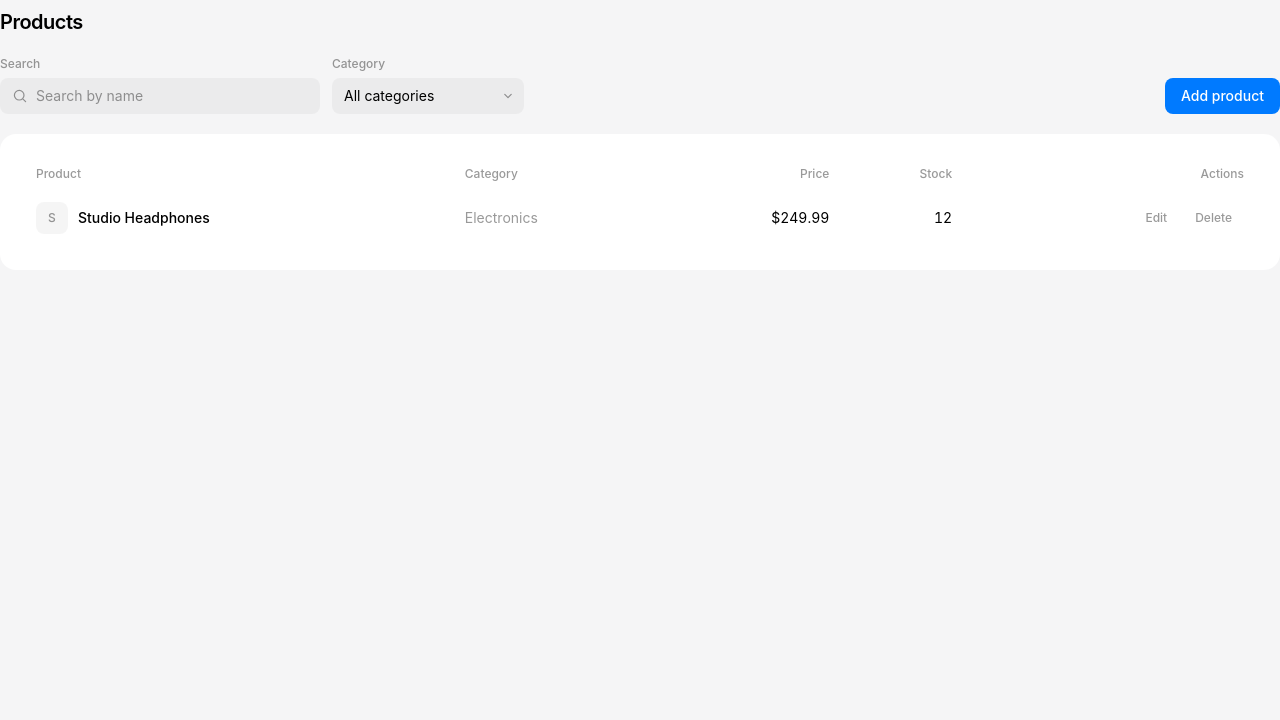
product CRUD › reports a failed delete as an error toast and keeps the row
Expected: the text "Studio Headphones" is shown, [78,208,210,228]
Step 1. Click the button with aria-label "Delete Studio Headphones" → point(1214, 218), box [1183,202,1244,234]
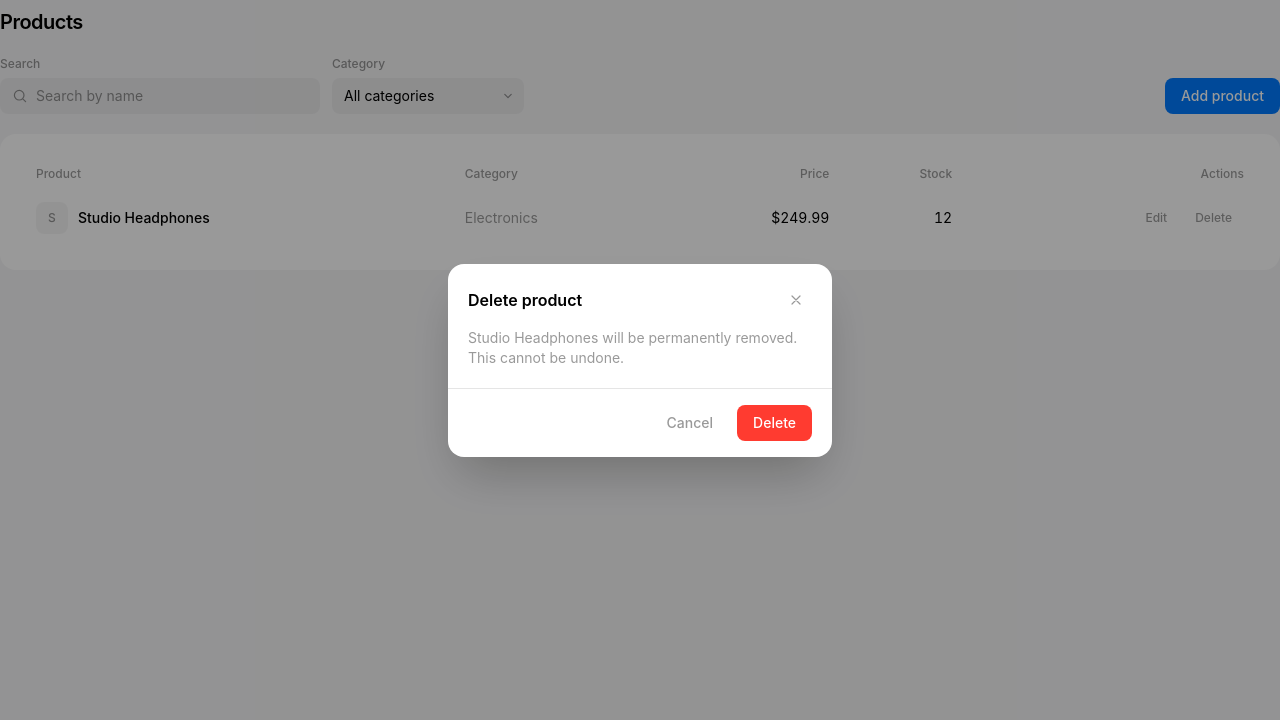
Step 2. Click the button "Delete" → point(775, 422), box [737,404,812,440]
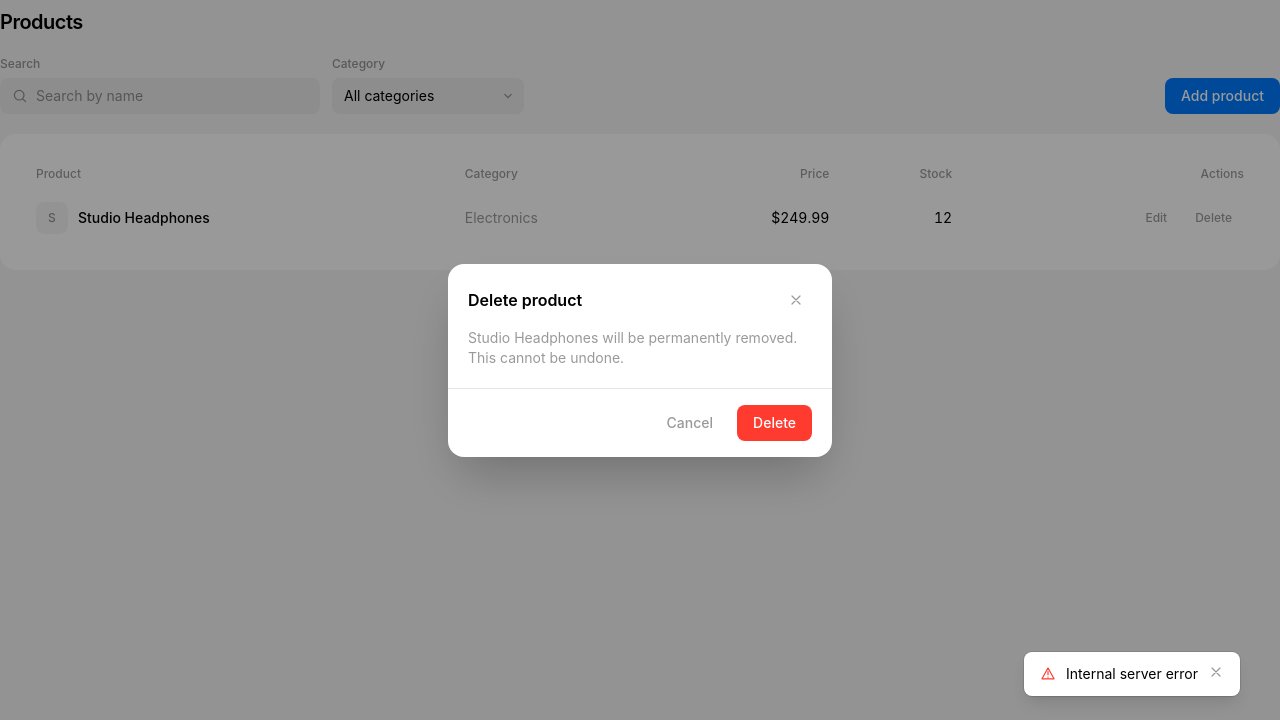
Expected: the text "Studio Headphones" is shown, [78,208,210,228]
Now the text "Internal server error" is shown, box [1066,664,1198,684]
